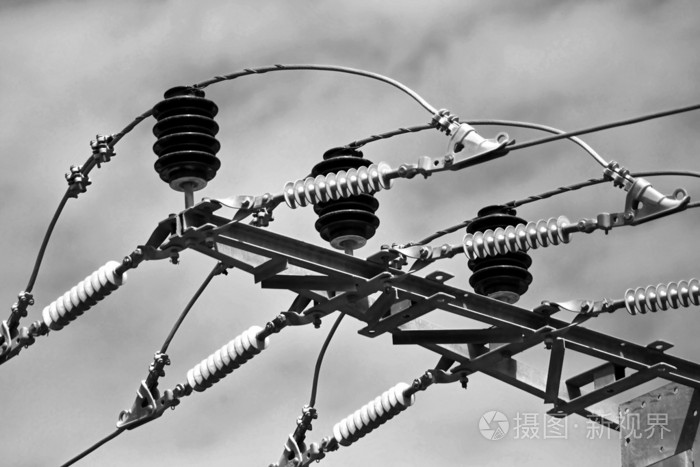insulator: (41, 258, 124, 330), (154, 89, 220, 179), (283, 161, 392, 210), (185, 325, 267, 390), (335, 384, 414, 443), (464, 215, 572, 258), (624, 281, 700, 317)
